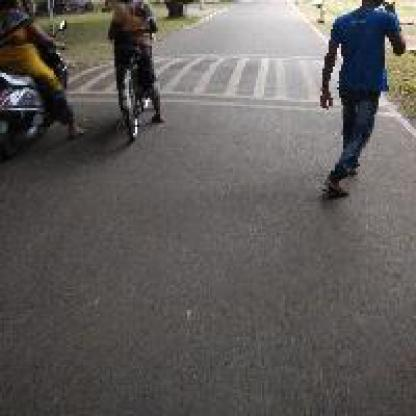Speed Bump: (156, 49, 316, 109)
